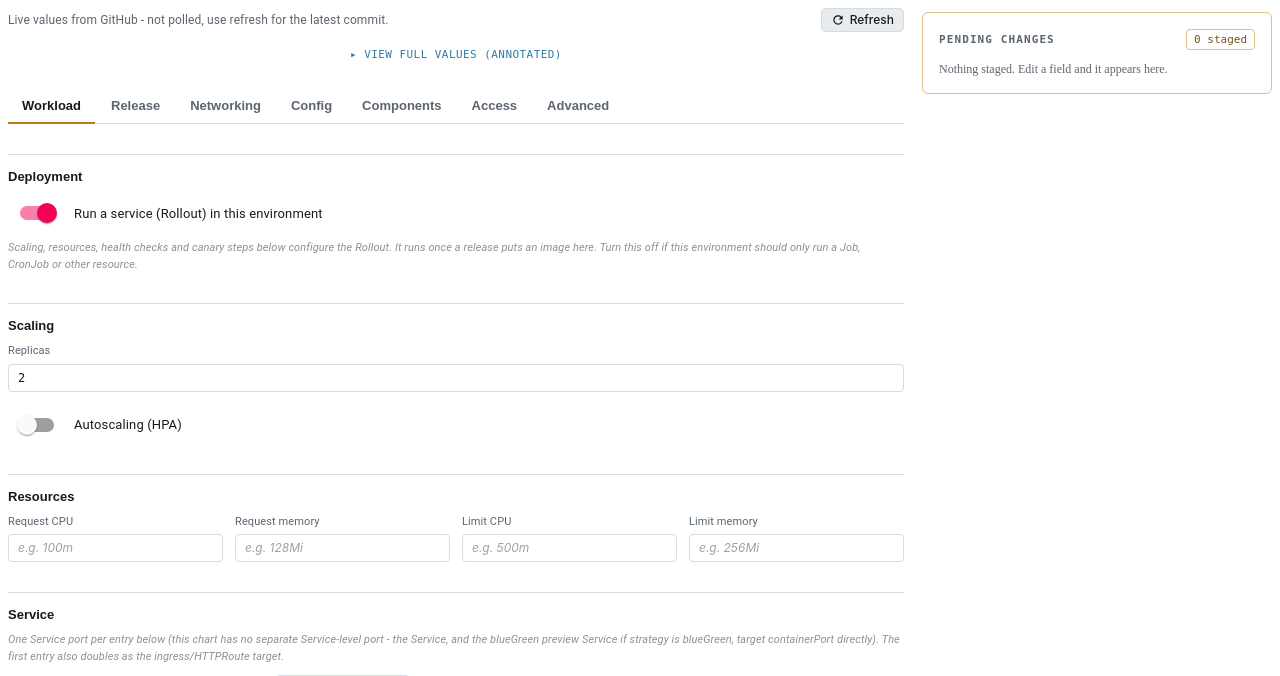
Scenario: adding a component › wires a component under the names the app's code reads, and flags a component env var it never reads
This screenshot has width=1280, height=676.
Click the tab "Components" at (402, 107), box [348, 89, 456, 124]
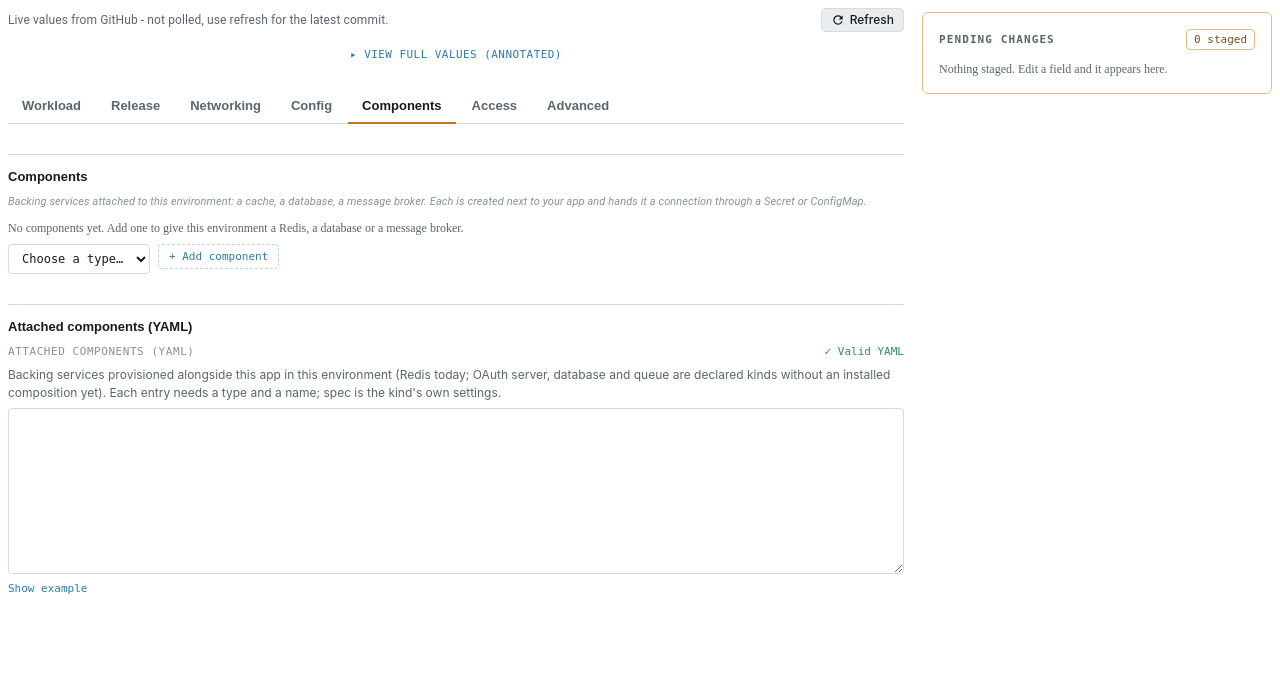
Select "RabbitMQ" in the dropdown named "Component type to add" at (79, 259), box [8, 244, 150, 274]
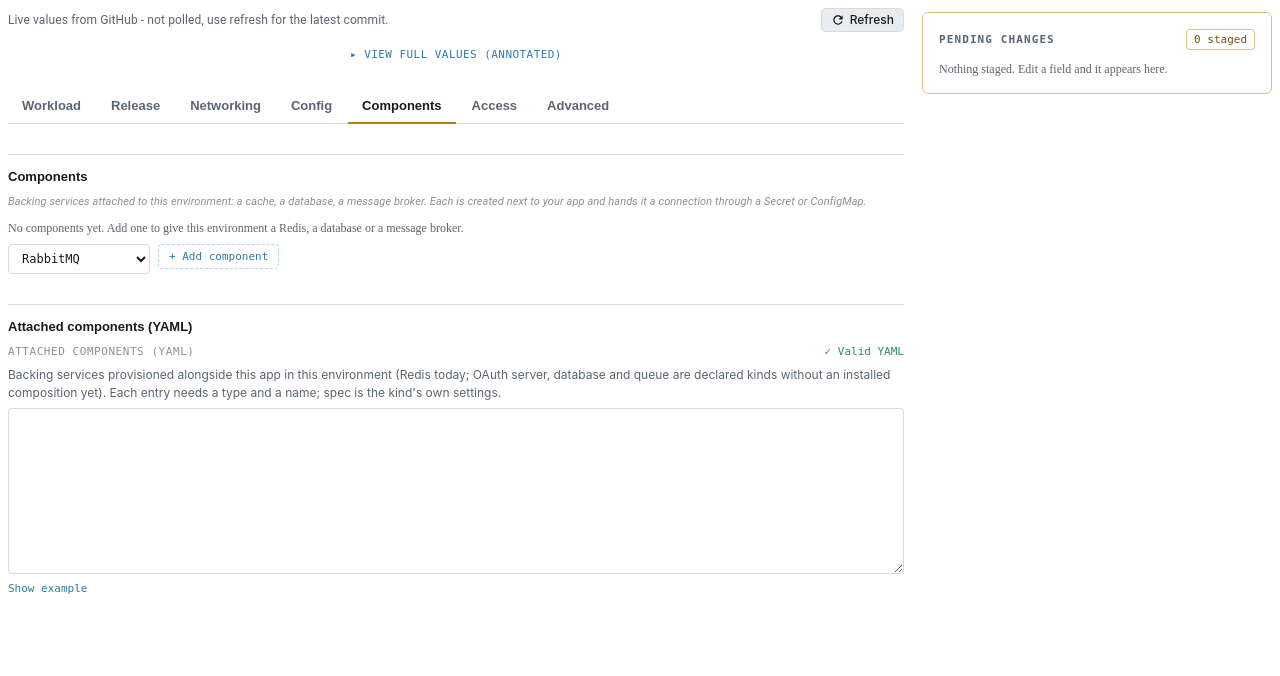
Click the button "+ Add component" at (219, 256), box [158, 244, 279, 269]
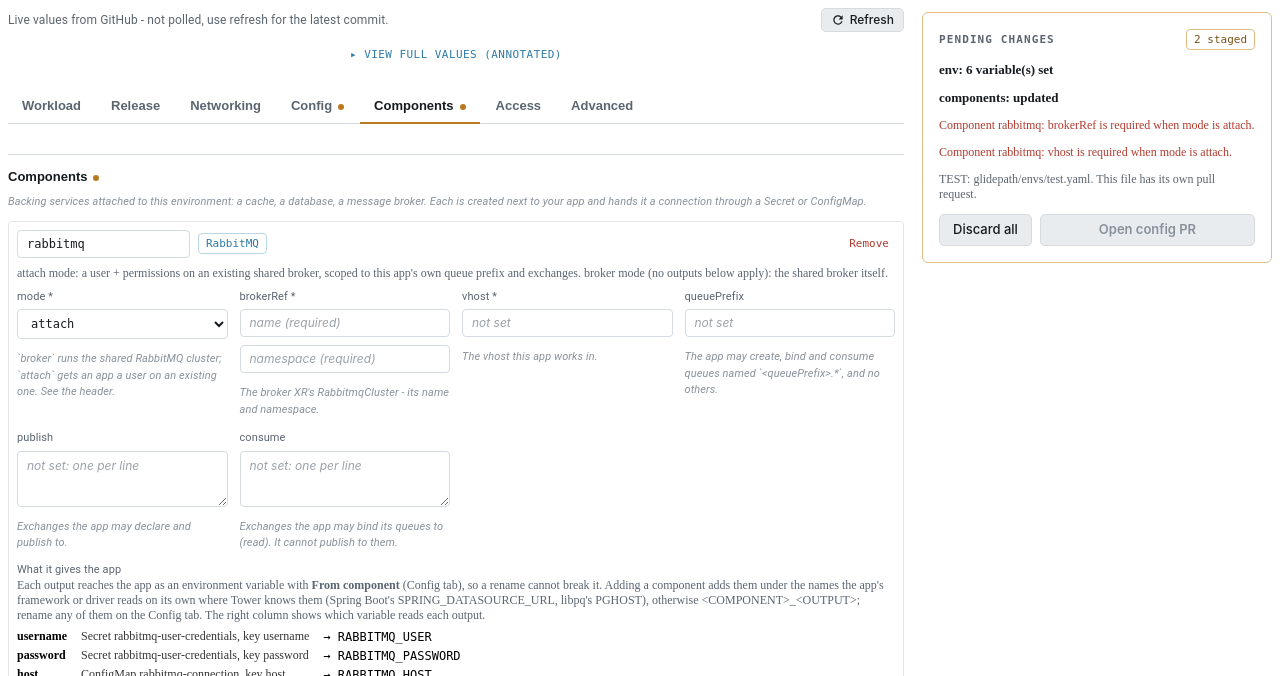
Result: the cell named "Env vars reading username" reads "→ RABBITMQ_USER" at [323, 630, 432, 644]
Click the tab "Config" at (318, 107), box [277, 89, 358, 124]
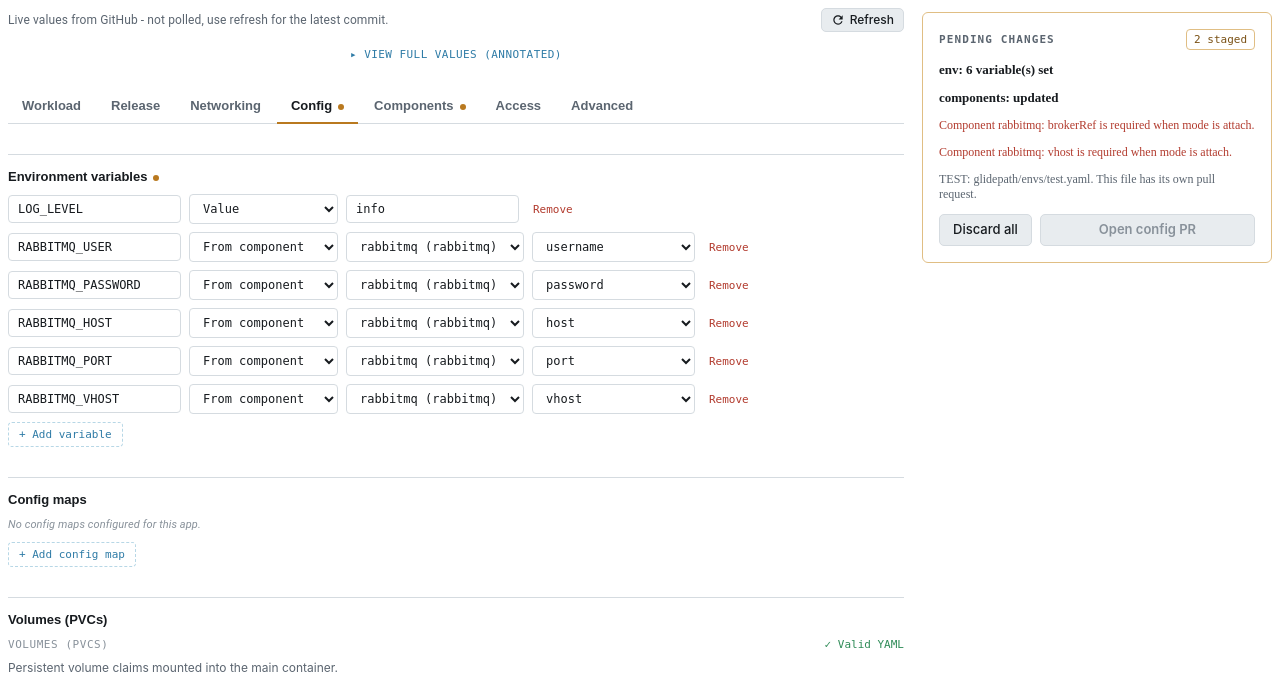
Expected: the text "The app's code never reads" is not shown
Replace the text in the field showing "RABBITMQ_USER" with "RABBITMQ_USERNAME" at (94, 247), box [8, 233, 181, 261]
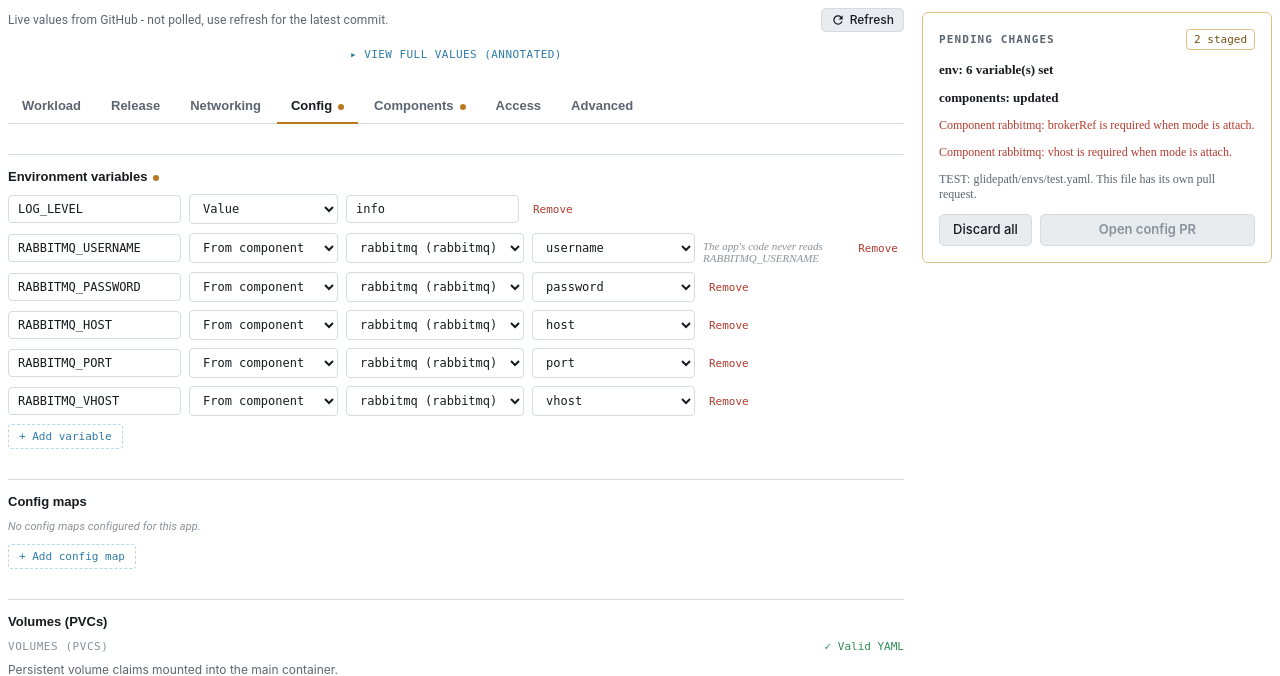
Result: the text "The app's code never reads RABBITMQ_USERNAME" is shown at [703, 240, 823, 264]
